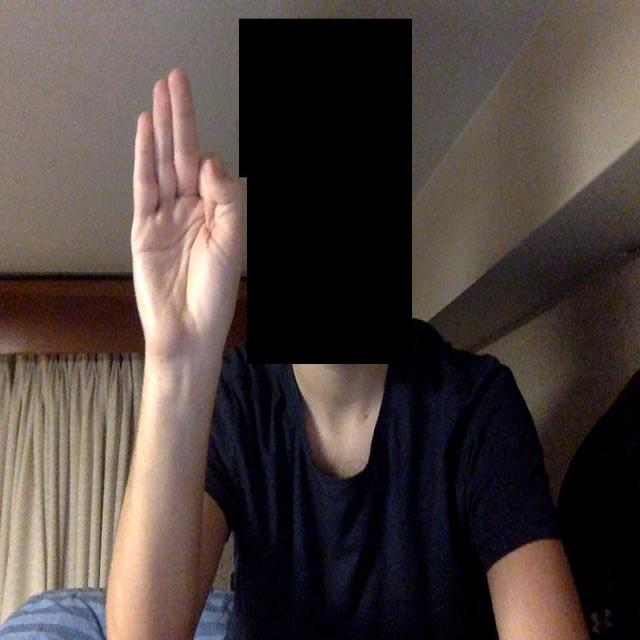F: (108, 37, 297, 450)
